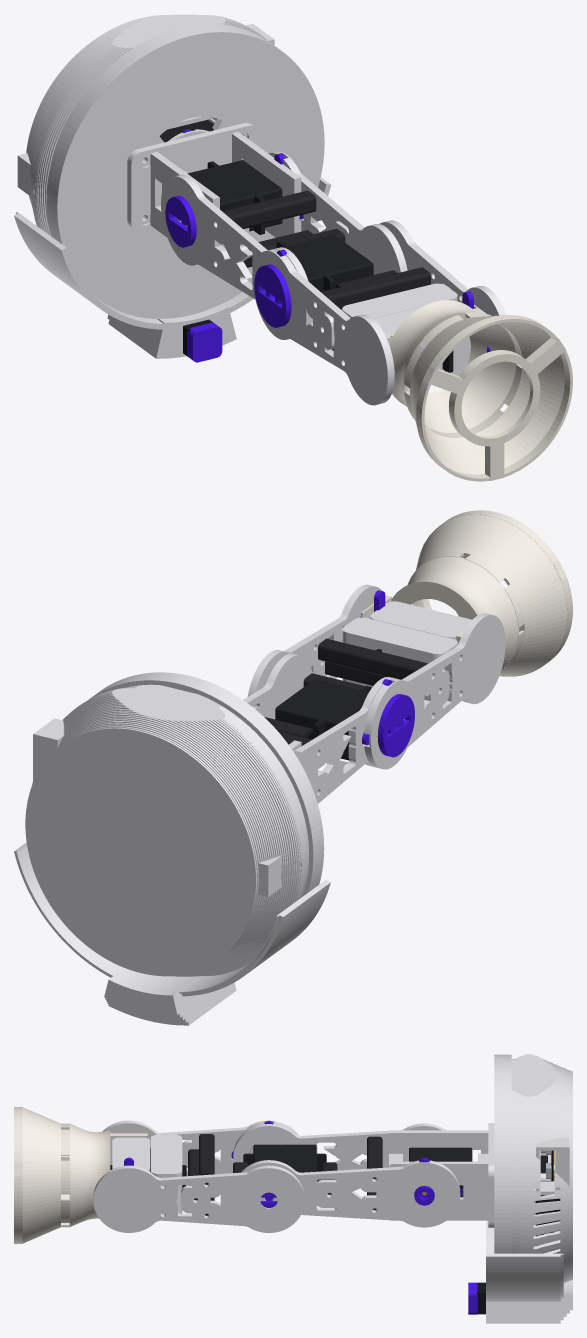
The model's file is hotaru2-populated.glb.
3 views of the same model, one above another, from view 1: azimuth 30°, elevation 25°; view 2: azimuth 150°, elevation 25°; view 3: azimuth 270°, elevation 25° (orthographic). The views are drawn at different scales.
Visible parts, largest first — view 1: v2-disc, shade, v2-tub, v2-tower, v2-link2-in, v2-link1-out, v2-link1-in, v2-head, el-mg996r-body, sh-mg996r-body, v2-link1-spacers, v2-link2-out (+5 smaller); view 2: v2-tub, shade, v2-link2-in, v2-disc, v2-head, v2-link1-out, el-mg996r-body, v2-link2-spacers, v2-link2-out, v2-link1-in, v2-trimcap, v2-link1-ledges; view 3: v2-tub, v2-link2-out, shade, v2-link1-in, v2-tower, v2-disc, v2-link1-out, v2-head, v2-link2-in, el-mg996r-body, v2-link2-spacers, sh-mg996r-body (+3 smaller).
Part boxes in pixels (box(x1,y1,x2,y2)): v2-disc: box(46, 24, 324, 318); shade: box(383, 296, 572, 481); v2-tub: box(14, 14, 331, 358); v2-tower: box(127, 122, 301, 237); v2-link2-in: box(253, 249, 394, 405); v2-link1-out: box(161, 174, 308, 298); v2-link1-in: box(268, 151, 407, 274); v2-head: box(342, 283, 470, 375); el-mg996r-body: box(283, 234, 373, 291); sh-mg996r-body: box(187, 160, 282, 231); v2-link1-spacers: box(222, 190, 316, 267); v2-link2-out: box(379, 220, 506, 315); v2-tub: box(14, 684, 330, 1025); shade: box(361, 510, 572, 676); v2-link2-in: box(364, 613, 505, 769); v2-disc: box(88, 672, 324, 896); v2-head: box(342, 601, 471, 687); v2-link1-out: box(292, 677, 395, 803); el-mg996r-body: box(275, 679, 368, 760); v2-link2-spacers: box(318, 638, 427, 685); v2-link2-out: box(247, 584, 381, 696); v2-link1-in: box(243, 653, 312, 719); v2-trimcap: box(377, 694, 414, 757); v2-link1-ledges: box(264, 673, 365, 737); v2-tub: box(486, 1054, 572, 1323); v2-link2-out: box(93, 1165, 304, 1232); shade: box(14, 1107, 147, 1243); v2-link1-in: box(241, 1160, 460, 1227); v2-tower: box(389, 1123, 494, 1227); v2-disc: box(494, 1054, 511, 1253); v2-link1-out: box(233, 1123, 445, 1170); v2-head: box(112, 1134, 182, 1214); v2-link2-in: box(102, 1120, 298, 1176); el-mg996r-body: box(253, 1144, 316, 1172); v2-link2-spacers: box(188, 1134, 214, 1215); sh-mg996r-body: box(409, 1147, 472, 1197).
Size of the model in its own units: 157 by 175 by 360.
